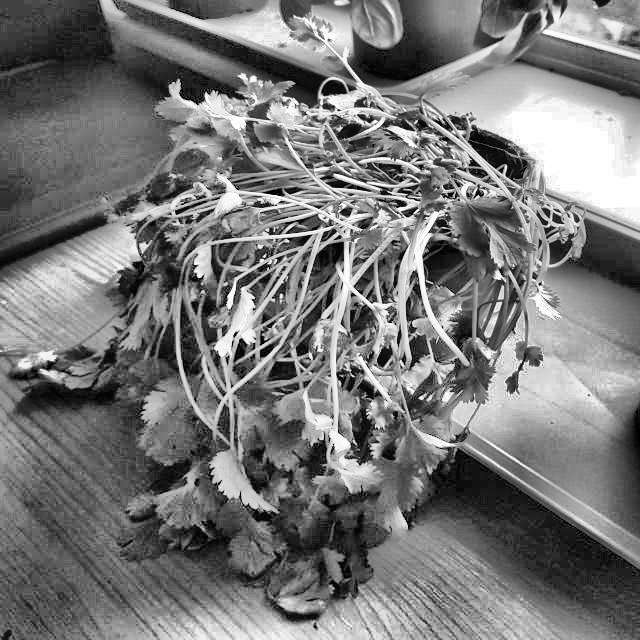plants: (1, 99, 562, 600)
